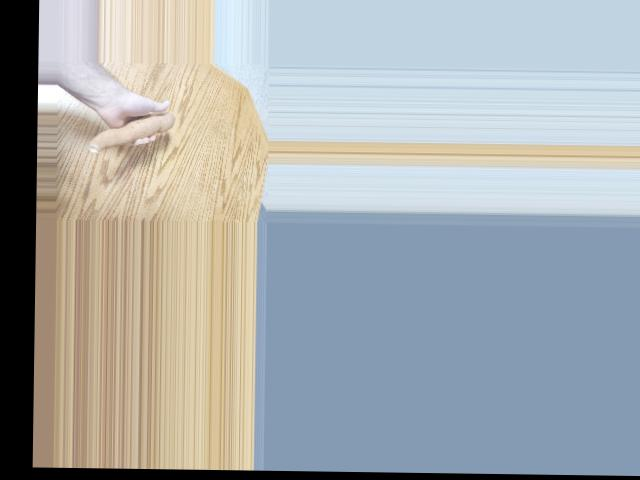sweet_potato: (86, 110, 175, 153)
